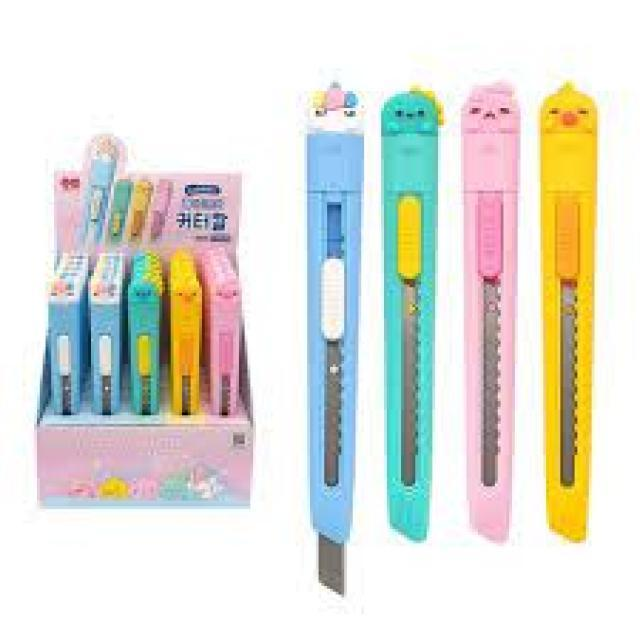cutter: (293, 78, 367, 602), (378, 80, 447, 556), (458, 79, 524, 547), (534, 73, 598, 550)
